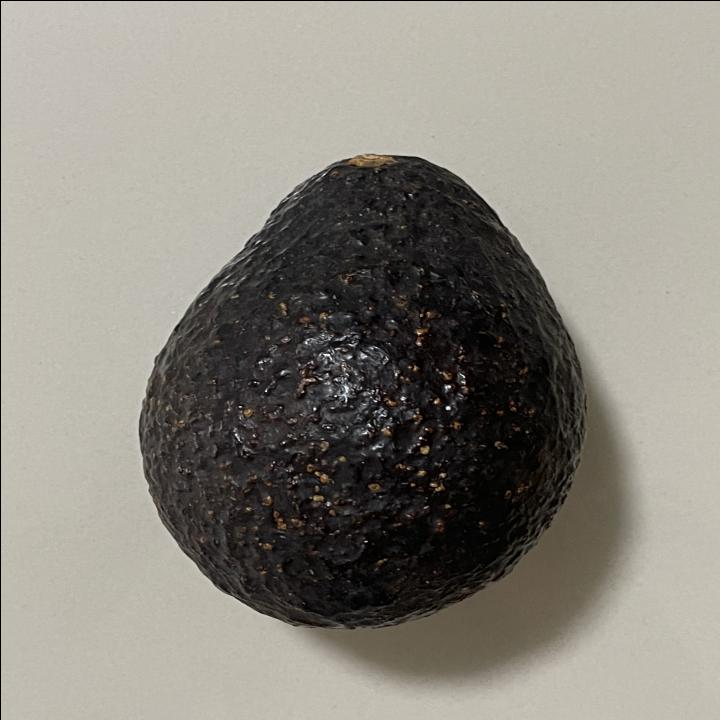Level3: (127, 143, 596, 637)
